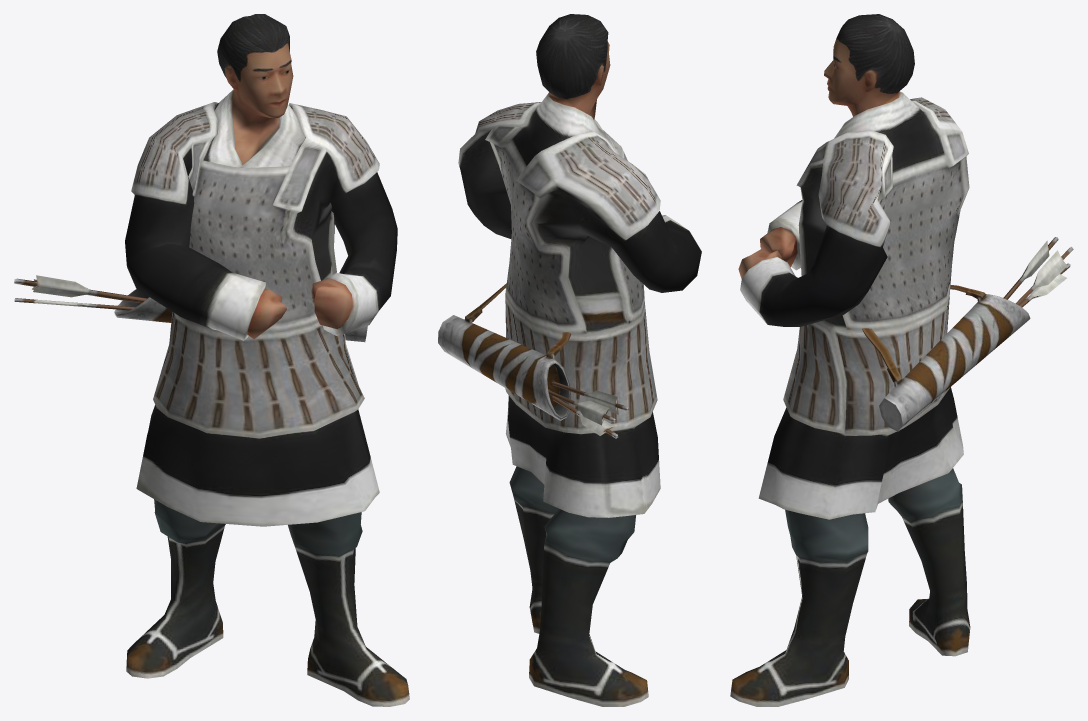
The model's file is body-championarchers.glb.
3 views of the same model, side by side, from view 1: azimuth 30°, elevation 25°; view 2: azimuth 150°, elevation 25°; view 3: azimuth 270°, elevation 25° (orthographic). The views are drawn at different scales.
Bounding box in the file's own units: 0.9024 × 2.06 × 0.9952.
1 material, 1 textured.
